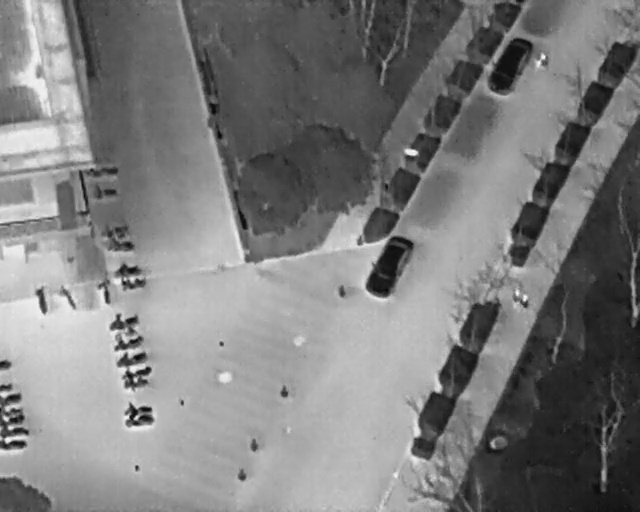Bicycle: (112, 346, 151, 371), (105, 308, 140, 333), (111, 332, 146, 355), (56, 282, 81, 314), (118, 361, 154, 382), (86, 182, 120, 202), (81, 164, 120, 181), (120, 373, 151, 394), (124, 409, 156, 429), (32, 285, 51, 317), (105, 236, 136, 255), (119, 273, 148, 293), (111, 260, 142, 278), (100, 221, 132, 238), (95, 279, 114, 307), (122, 400, 154, 416), (0, 425, 30, 440), (0, 438, 28, 452), (0, 391, 23, 405), (0, 415, 26, 426), (0, 407, 23, 417), (0, 358, 12, 371), (0, 382, 14, 393)
Car: (357, 225, 420, 305), (480, 29, 539, 102)
Person: (537, 49, 548, 73), (511, 287, 521, 310), (520, 292, 530, 313)
